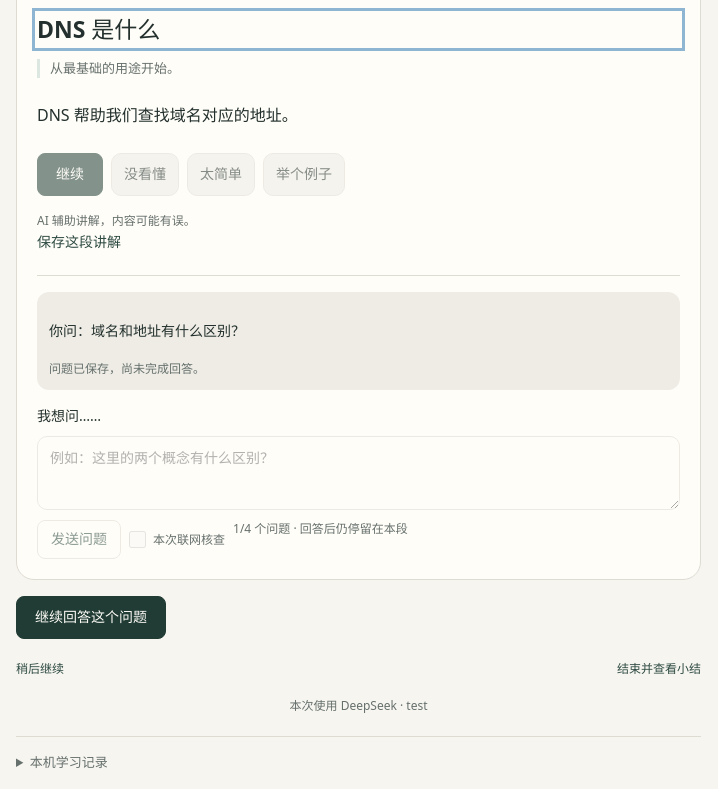
Test case: ignores a late search answer after the study was paused
(page scrolled)
What coordinates should you click on to do the following:
click the button "继续回答这个问题"
I would click on:
 (91, 618)
Its box is [16,596,166,639].
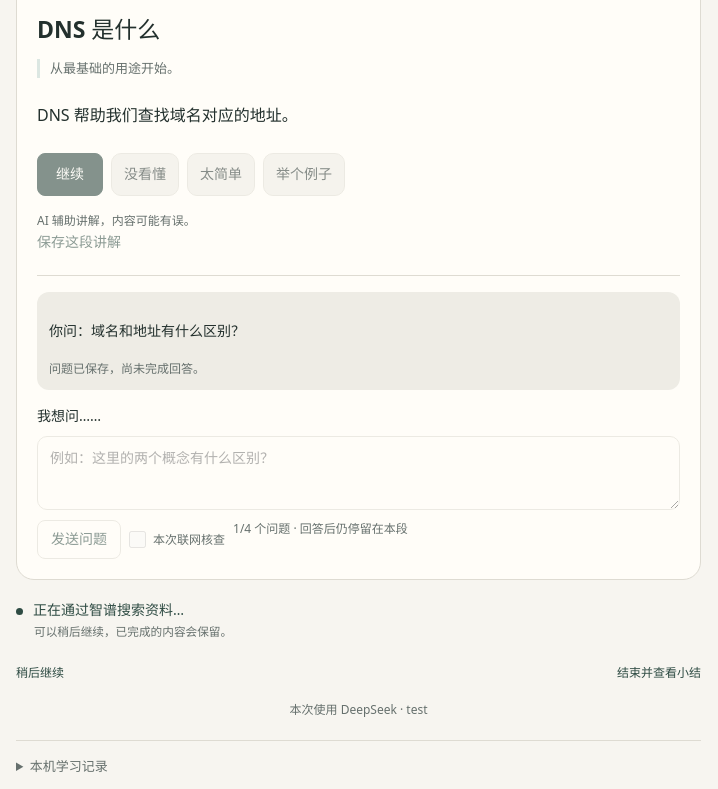
What coordinates should you click on to do the following:
click the button "稍后继续"
I would click on:
 (40, 673)
Its box is [16,661,64,685].
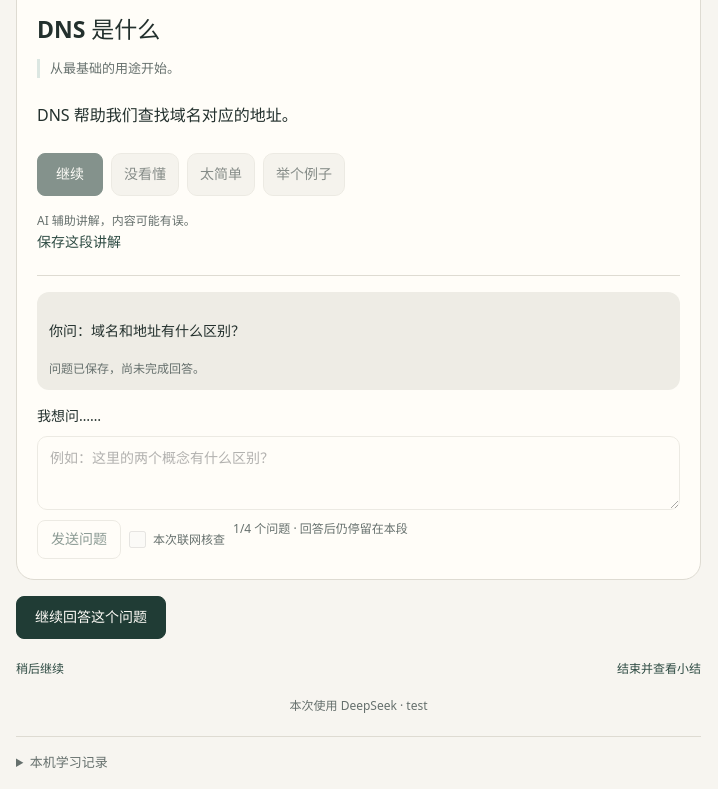
Expected: the button "继续回答这个问题" is shown, [16,596,166,639]
